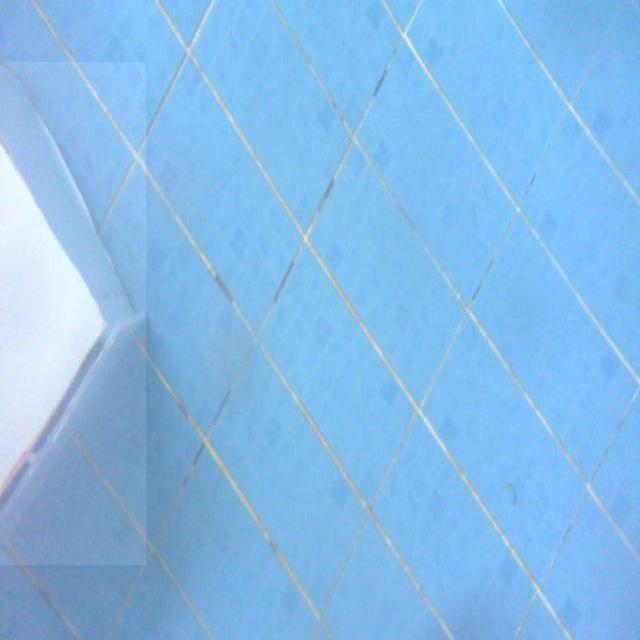Cube: (0, 62, 146, 565)
